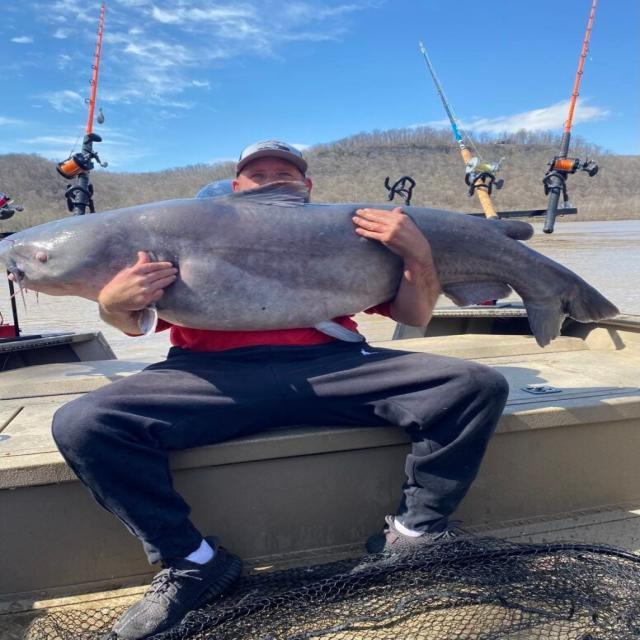Catfish - Blue: (0, 184, 402, 331), (404, 206, 619, 346)
